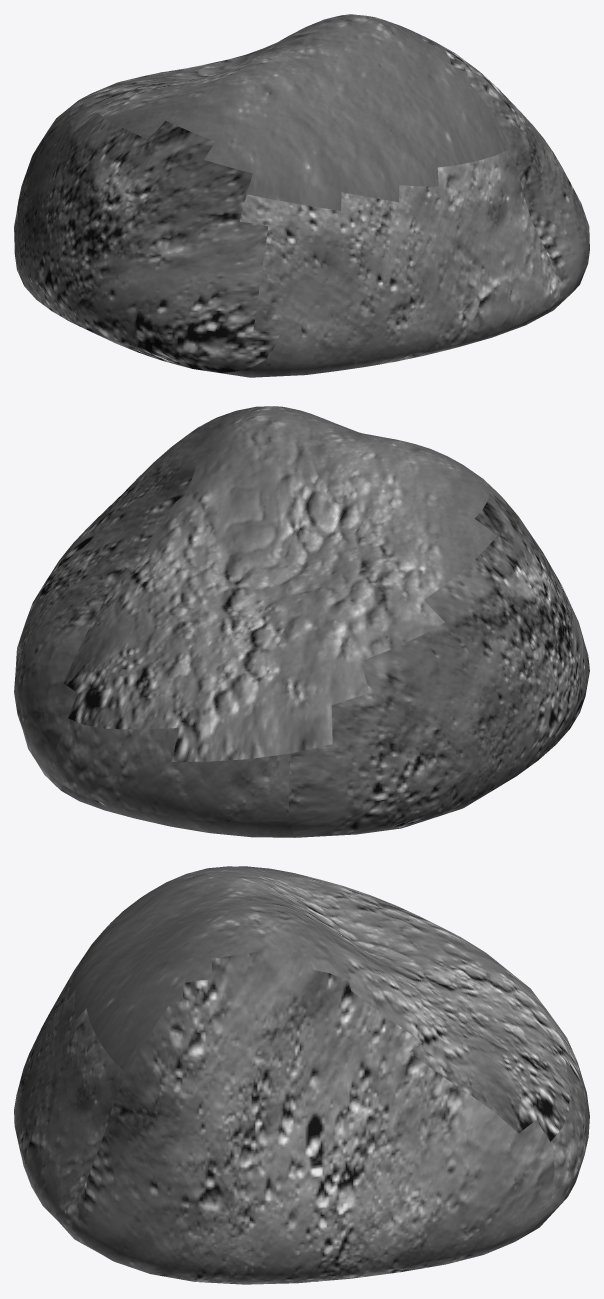
File: Rock7.obj
3 renders of one model, top to bottom at view 1: azimuth 30°, elevation 25°; view 2: azimuth 150°, elevation 25°; view 3: azimuth 270°, elevation 25°, orthographic. The views are drawn at different scales.
Parts seen in each view (by area): view 1: Rocks8; view 2: Rocks8; view 3: Rocks8.
Part boxes in pixels (<box>): Rocks8: <box>14,14,589,377</box>; Rocks8: <box>14,406,589,837</box>; Rocks8: <box>14,866,589,1284</box>.
Size of the model in its own units: 0.8049 by 0.4397 by 0.7673.
1 material, 1 textured.
